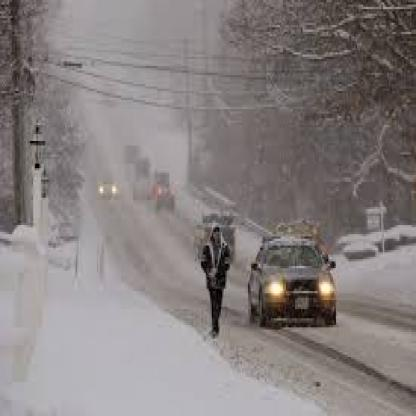car: (242, 224, 344, 345)
